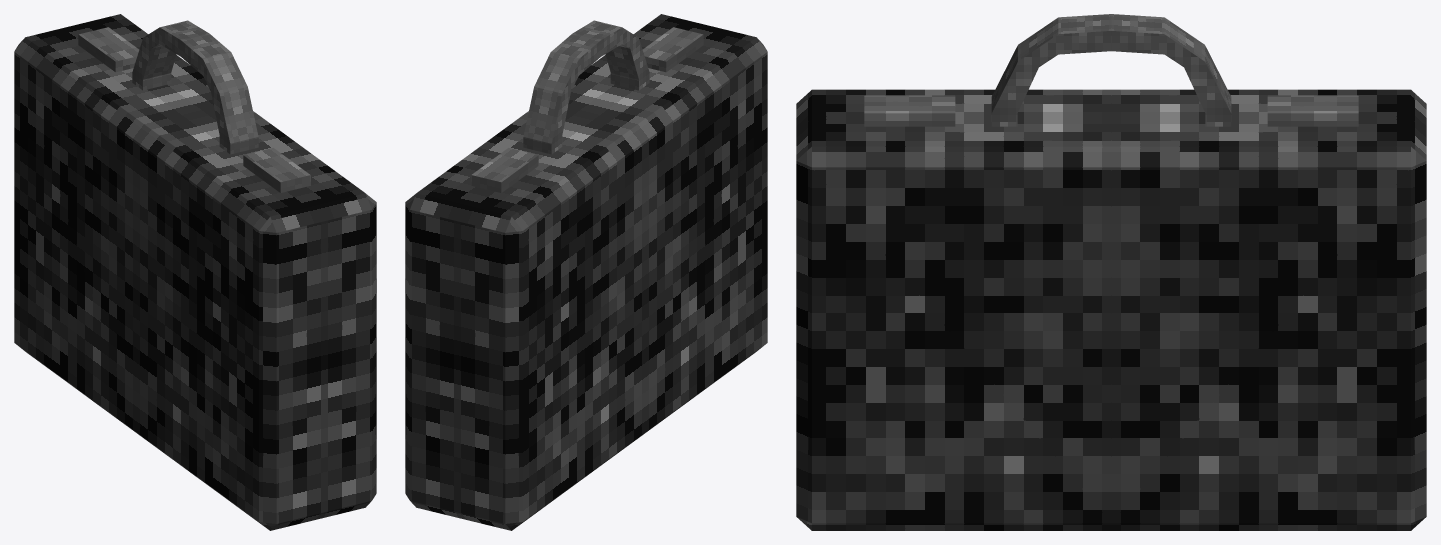
The model's file is briefcase.glb.
3 renders of one model, left to right at view 1: azimuth 30°, elevation 25°; view 2: azimuth 150°, elevation 25°; view 3: azimuth 270°, elevation 25°, orthographic. The views are drawn at different scales.
Visible parts, largest first — view 1: Cube; view 2: Cube; view 3: Cube.
Part boxes in pixels (x1,y1,x2,y2): Cube: [14, 14, 376, 530]; Cube: [405, 14, 767, 530]; Cube: [796, 14, 1426, 530].
Bounding box in the file's own units: 0.4524 × 1.44 × 1.72.
Materials: 2 (2 with a texture image).
